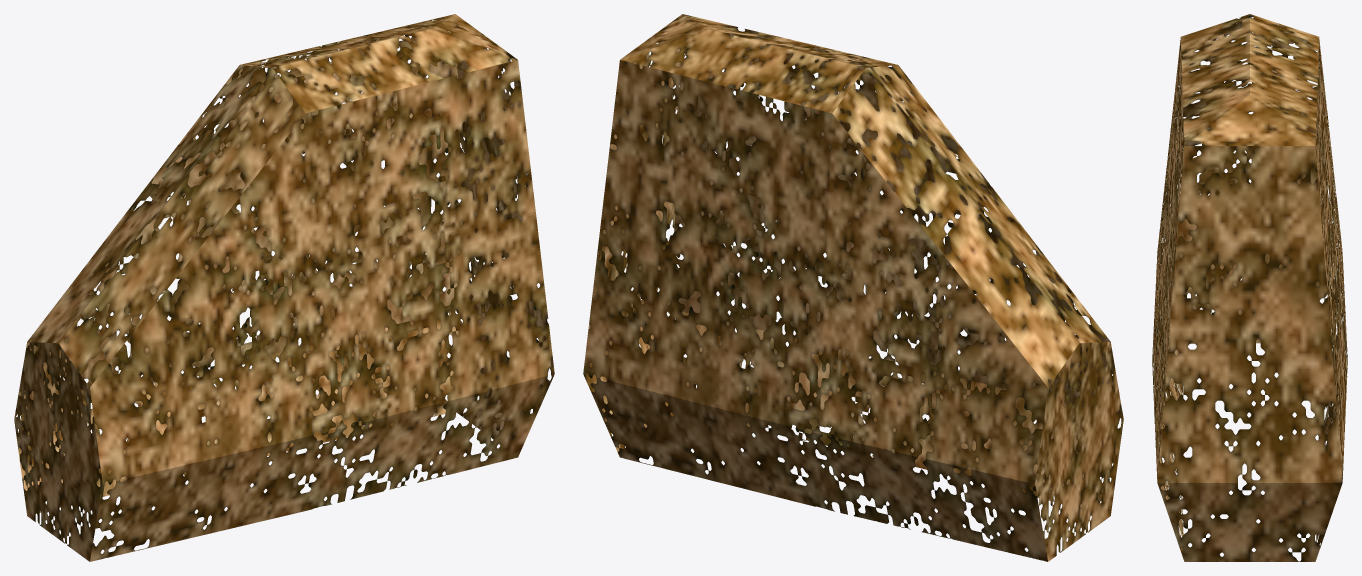
File: bush_connector_high_end_autumn.fbx
3 views of the same model, side by side, from view 1: azimuth 30°, elevation 25°; view 2: azimuth 150°, elevation 25°; view 3: azimuth 270°, elevation 25° (orthographic). The views are drawn at different scales.
Visible parts, largest first — view 1: bush_connector_high_end_autumn; view 2: bush_connector_high_end_autumn; view 3: bush_connector_high_end_autumn.
Part boxes in pixels (left/top/right/bottom): bush_connector_high_end_autumn: left=14, top=14, right=554, bottom=561; bush_connector_high_end_autumn: left=583, top=14, right=1123, bottom=561; bush_connector_high_end_autumn: left=1152, top=14, right=1347, bottom=561.
Size of the model in its own units: 212 by 188 by 75.92.
1 material, 1 textured.
